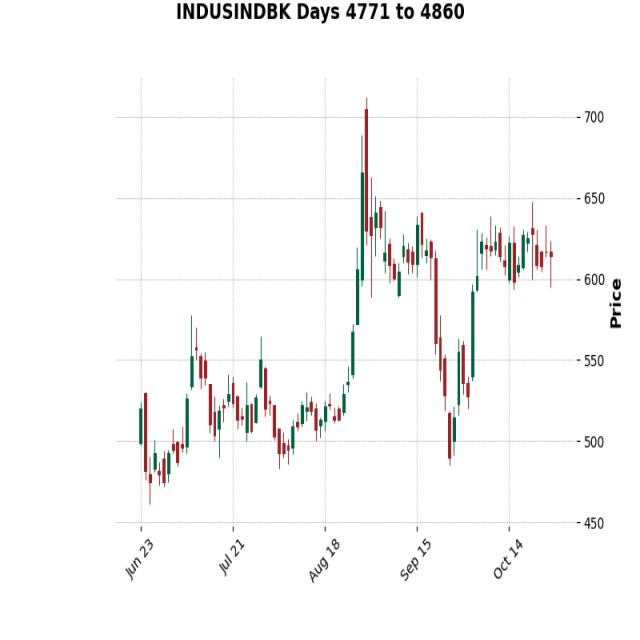Ascending Triangle: (450, 204, 536, 472)
